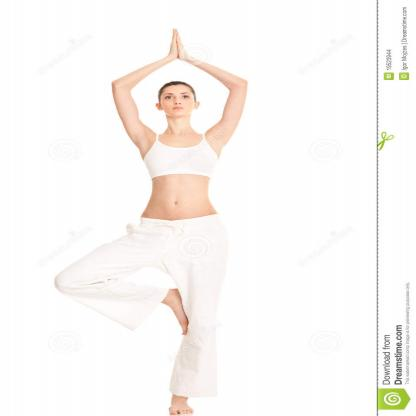tree: (45, 17, 285, 416)
